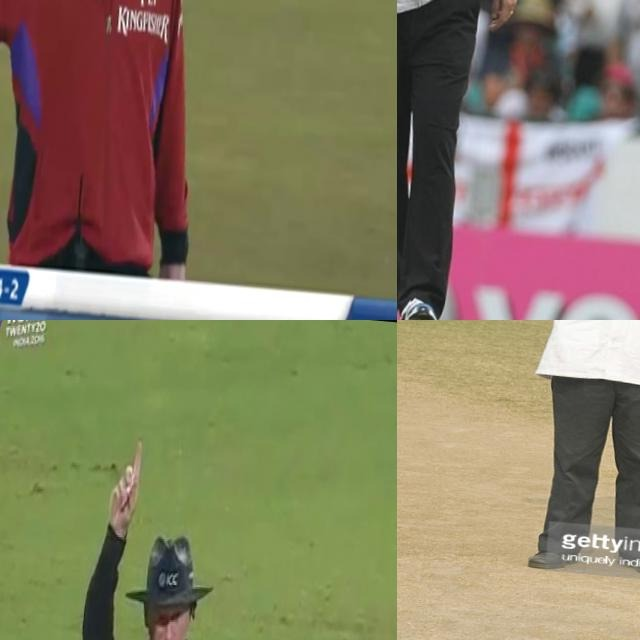No_Ball: (0, 0, 259, 283), (397, 0, 571, 320)
Out: (59, 423, 277, 640)
Six: (449, 320, 640, 587)
